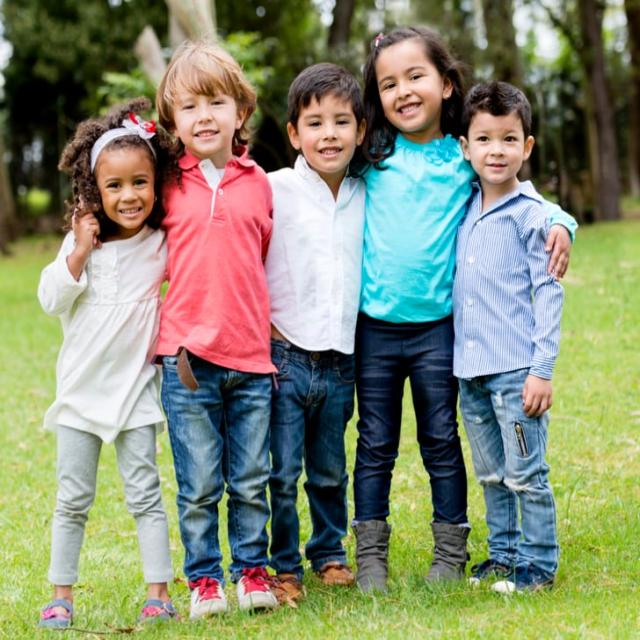child: (40, 98, 175, 627), (157, 36, 276, 617), (355, 26, 473, 586), (255, 61, 367, 584), (457, 80, 568, 595)
